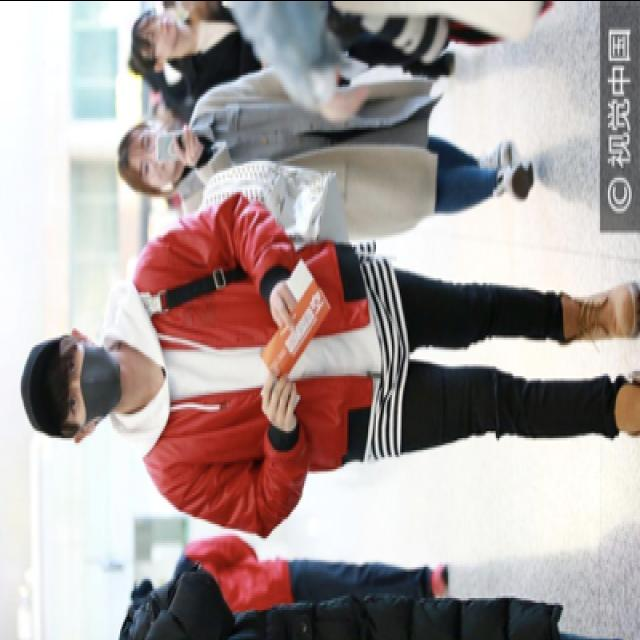with_mask: (64, 342, 120, 426)
without_mask: (136, 132, 178, 182), (142, 10, 178, 58)
